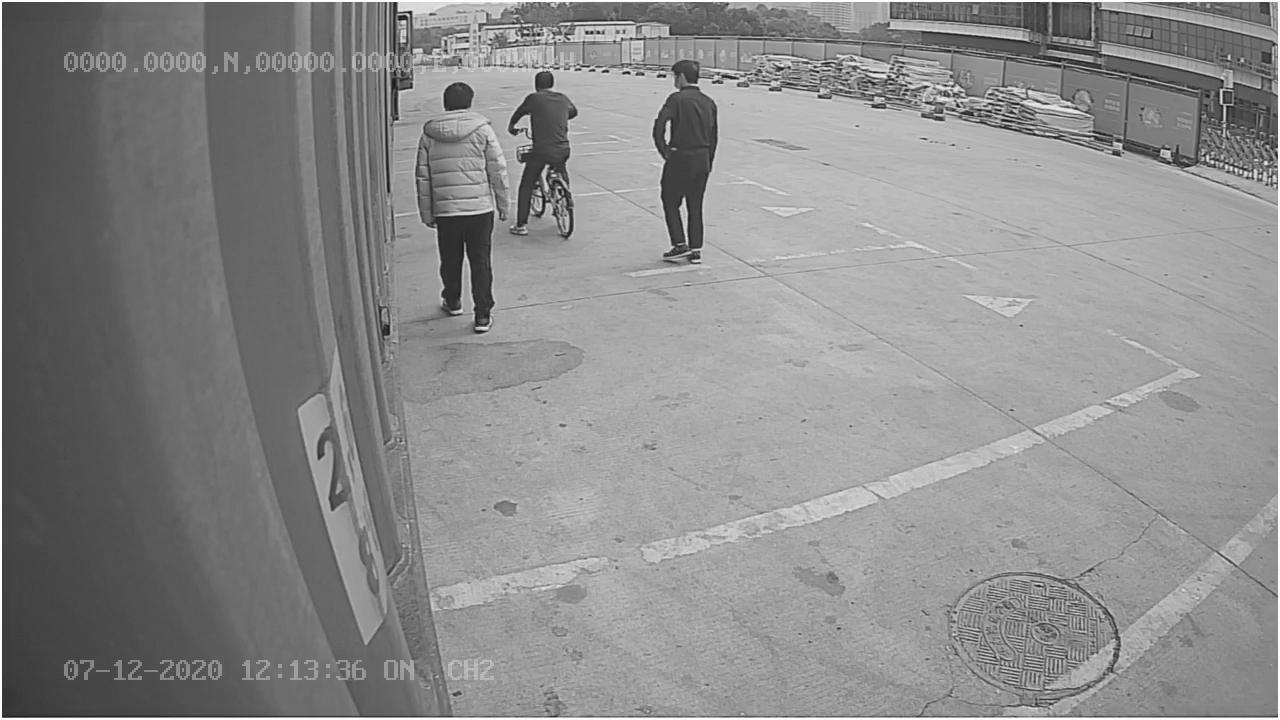person: (415, 80, 512, 334)
